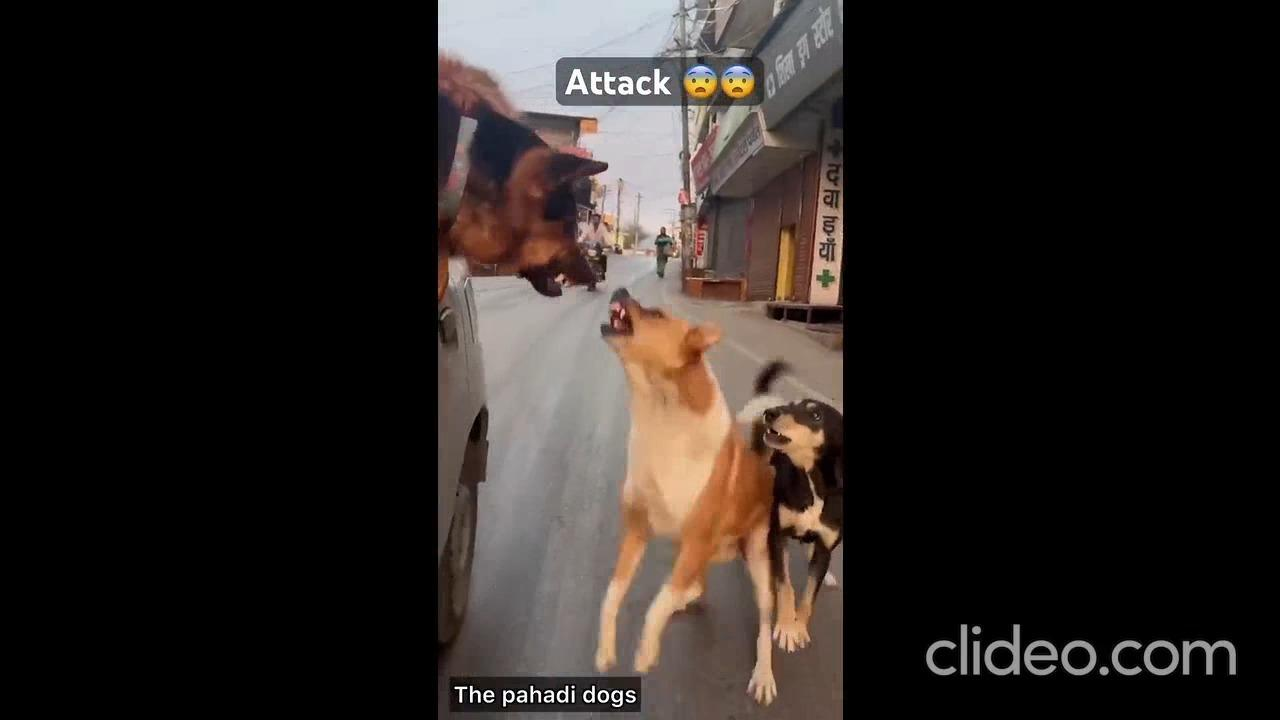dog: (601, 280, 788, 720), (731, 342, 838, 664)
